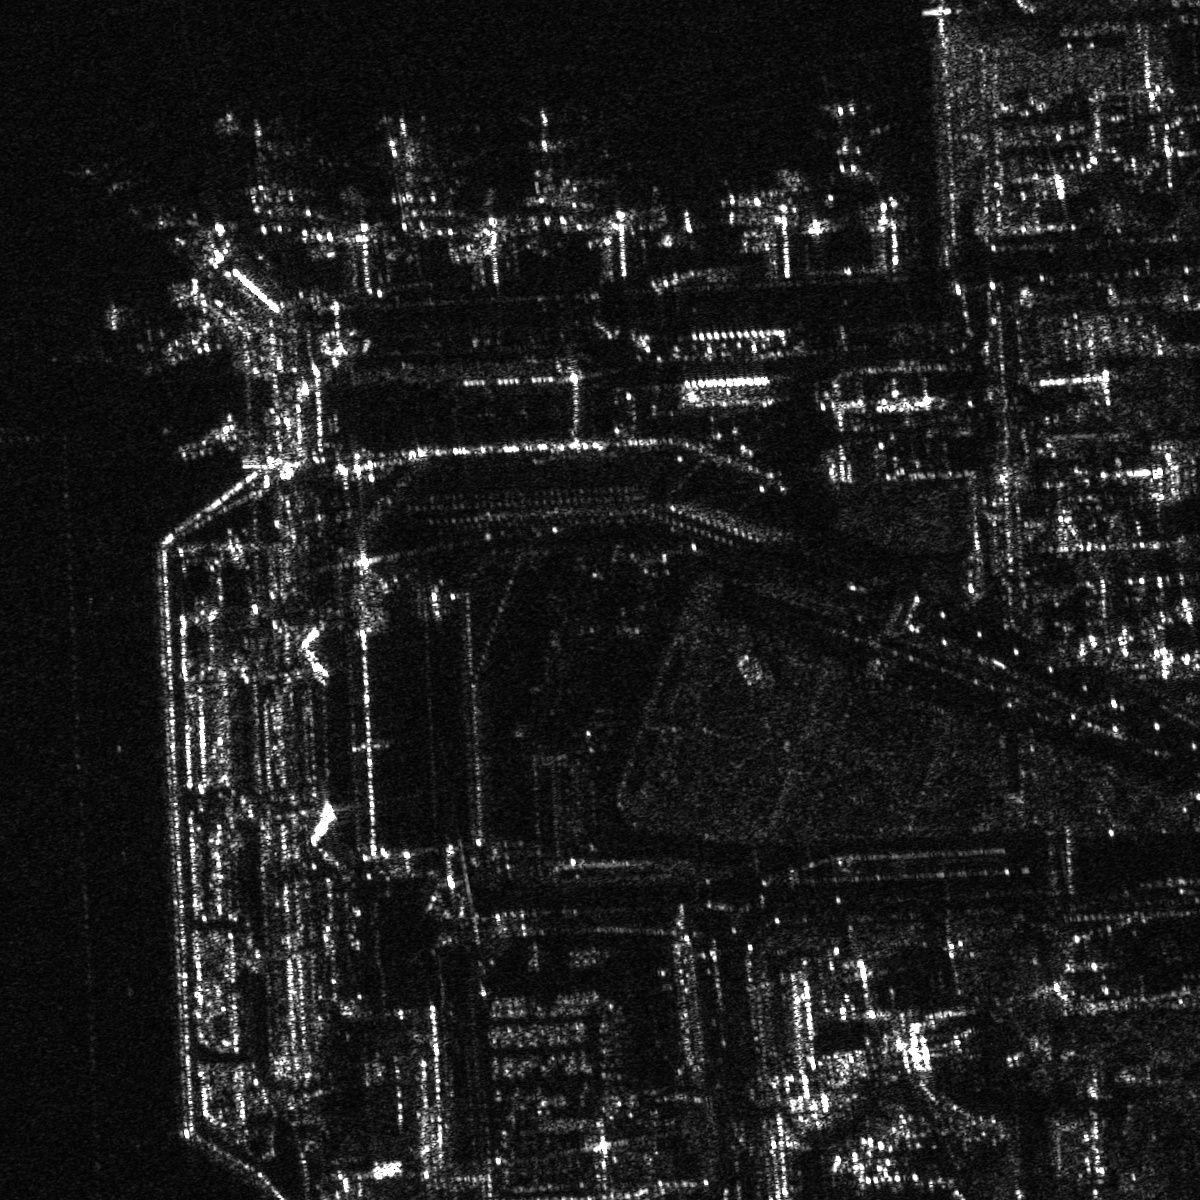A220: (796, 98, 892, 187)
Boeing787: (508, 103, 587, 216)
other: (368, 112, 448, 238), (218, 111, 299, 211)
